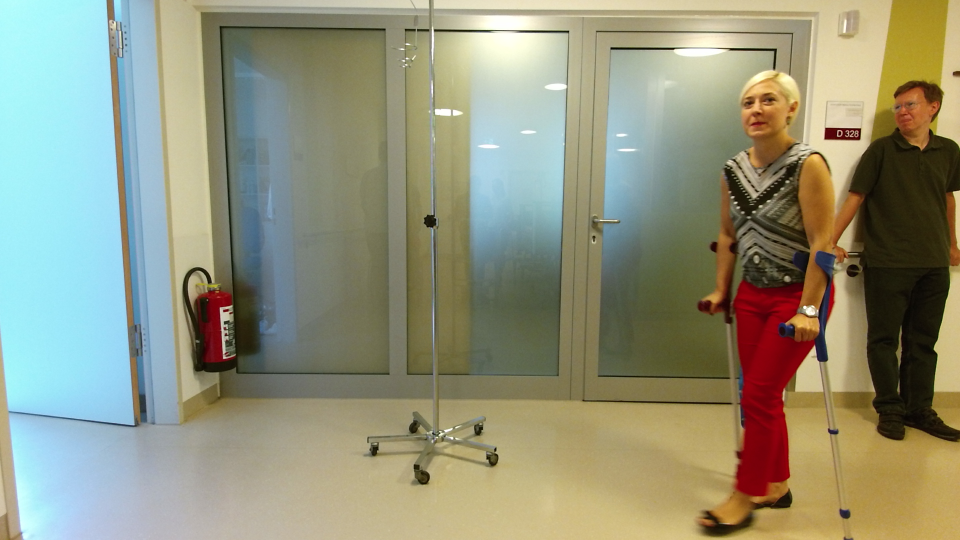crutches: (686, 69, 853, 534)
